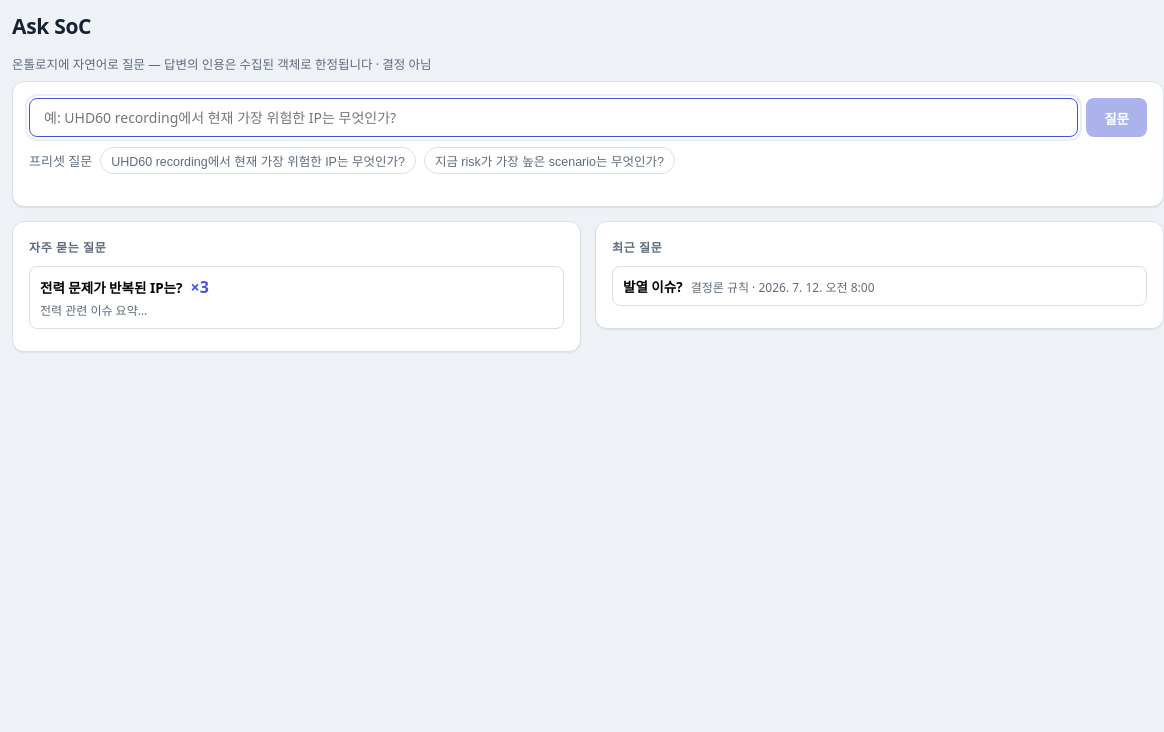
Test: A2 인라인 각주 + A5 FAQ › 대기 화면에 FAQ와 최근 질문이 표시되고 클릭 시 재질의한다
Expected: the text "×3" is shown, x1=190 y1=276 x2=209 y2=298
Expected: the text "발열 이슈?" is shown, x1=623 y1=276 x2=683 y2=296
Step 1. Click the text "전력 문제가 반복된 IP는?" → {"x": 111, "y": 287}, box x1=40 y1=277 x2=182 y2=297
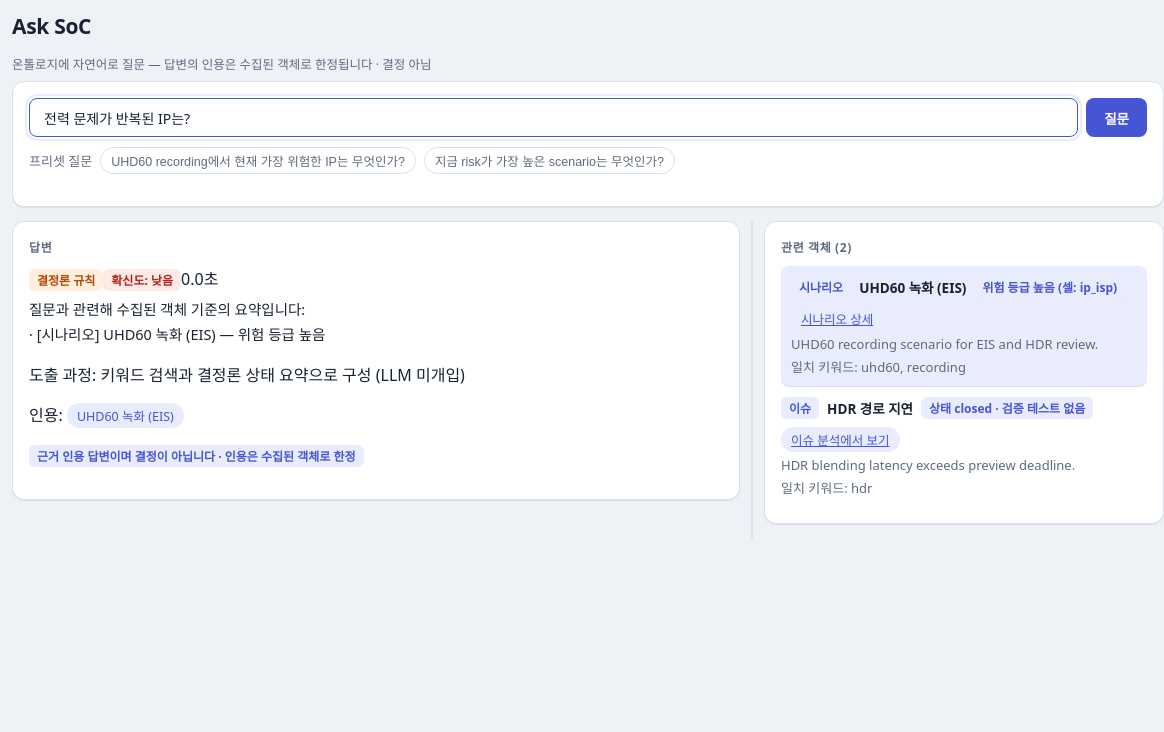
Expected: the text "질문과 관련해 수집된 객체 기준의 요약입니다: · [시나리오] UHD60 녹화 (EIS) — 위험 등급 높음" is shown, x1=29 y1=299 x2=325 y2=344
